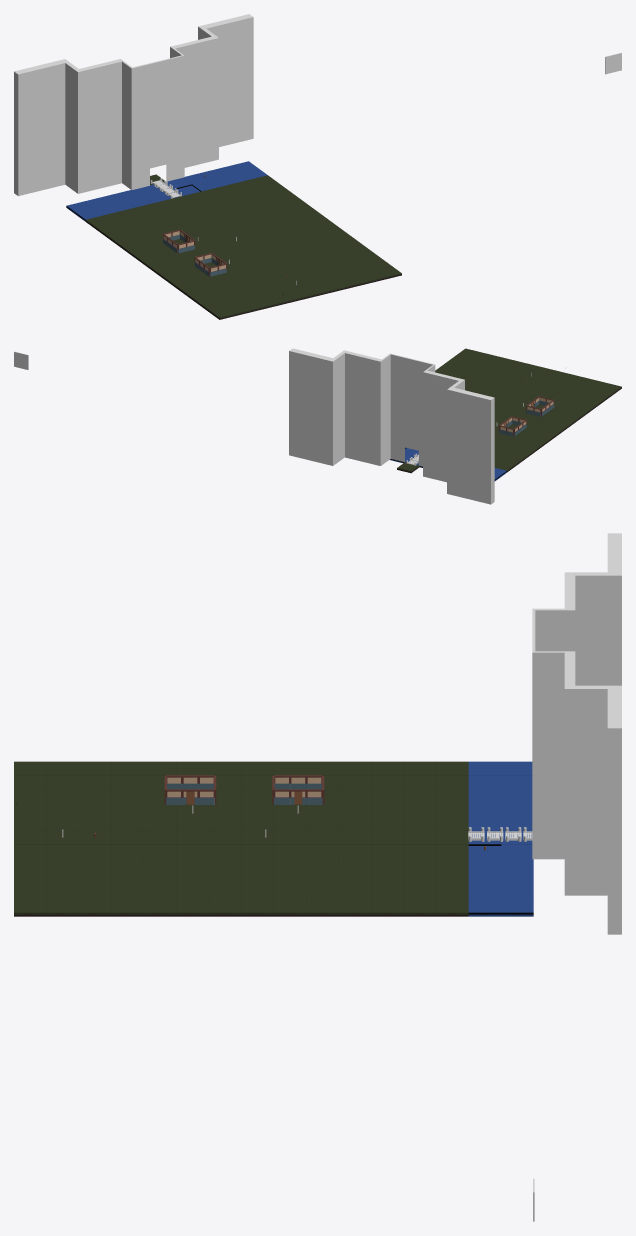
File: hub.glb
3 views of the same model, one above another, from view 1: azimuth 30°, elevation 25°; view 2: azimuth 150°, elevation 25°; view 3: azimuth 270°, elevation 25° (orthographic). The views are drawn at different scales.
Visible parts, largest first — view 1: Cube.183; view 2: Cube.183, Castle Door; view 3: Cube.183.
Boxes of the visible parts, <box> form: Cube.183: <box>14,14,253,196</box>; Cube.183: <box>289,348,494,504</box>; Castle Door: <box>14,351,28,369</box>; Cube.183: <box>532,533,621,934</box>.
Bounding box in the file's own units: 140 × 28.83 × 74.86.
177 materials, 169 textured.
